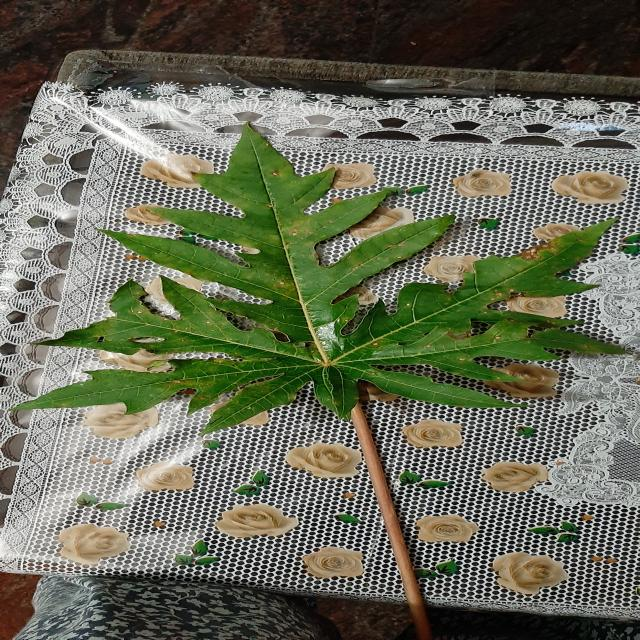papaya: (19, 126, 623, 434)
